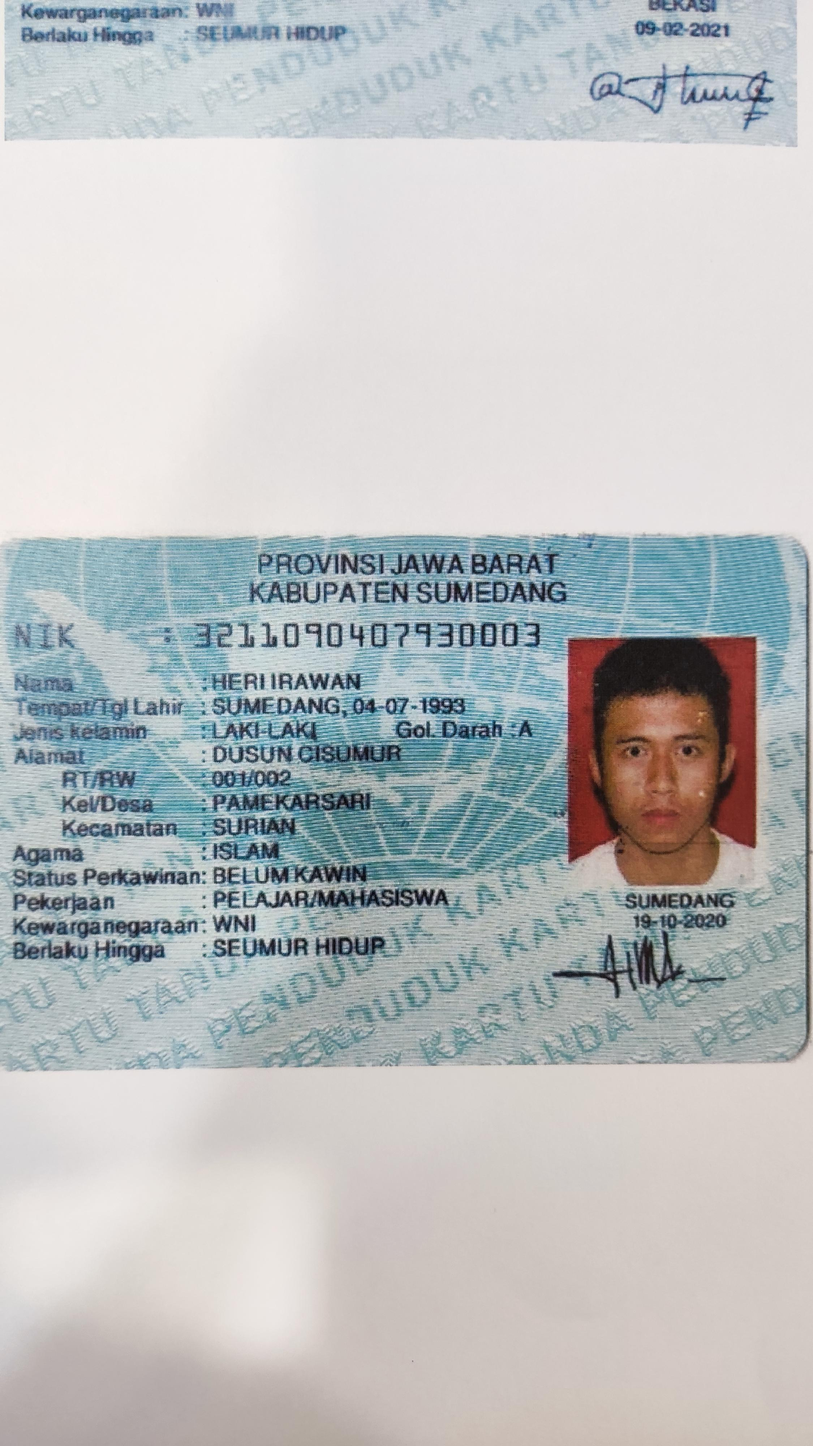ID-card: (2, 536, 810, 1072)
